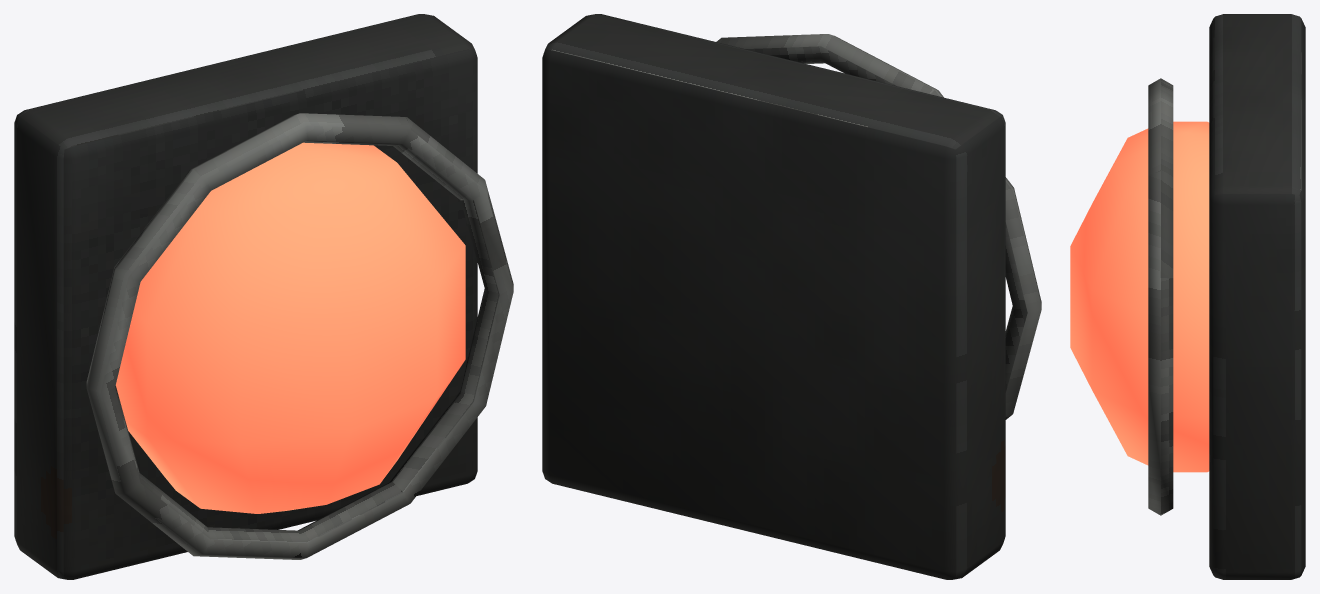
The model's file is lamp_red.glb.
3 views of the same model, side by side, from view 1: azimuth 30°, elevation 25°; view 2: azimuth 150°, elevation 25°; view 3: azimuth 270°, elevation 25° (orthographic). The views are drawn at different scales.
Visible parts, largest first — view 1: lamp_red, glow.002; view 2: lamp_red; view 3: lamp_red, glow.002.
Part boxes in pixels (box(x1,y1,x2,y2)): lamp_red: box(14, 14, 513, 579); glow.002: box(115, 142, 465, 513); lamp_red: box(542, 14, 1041, 579); lamp_red: box(1148, 14, 1305, 579); glow.002: box(1070, 121, 1209, 472).
Bounding box in the file's own units: 0.182 × 0.182 × 0.0976.
2 materials, 1 textured.
